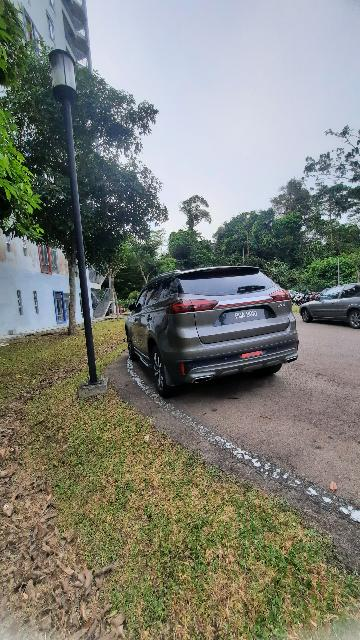License_Plate: (213, 302, 280, 331)
car: (120, 266, 305, 401)
